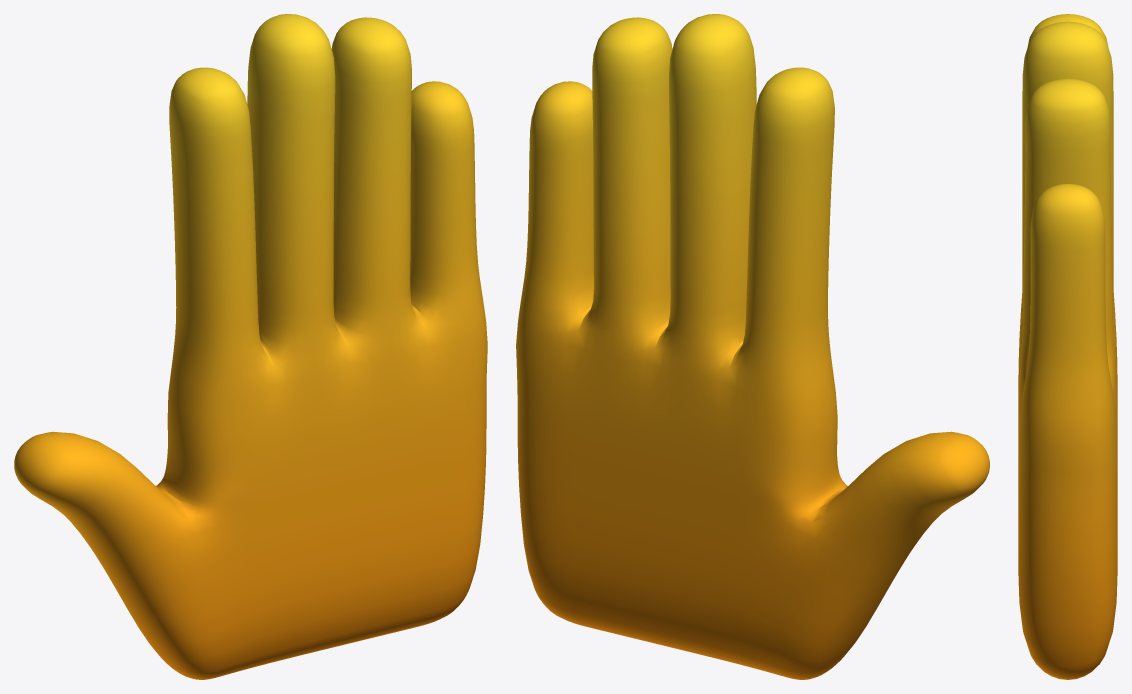
Rendered from raised_back_of_hand.fbx.
3 renders of one model, left to right at view 1: azimuth 30°, elevation 25°; view 2: azimuth 150°, elevation 25°; view 3: azimuth 270°, elevation 25°, orthographic. The views are drawn at different scales.
Visible parts, largest first — view 1: Cube.081; view 2: Cube.081; view 3: Cube.081.
Boxes of the visible parts, left/top/right/bottom form: Cube.081: left=14, top=14, right=487, bottom=679; Cube.081: left=516, top=14, right=989, bottom=679; Cube.081: left=1018, top=14, right=1117, bottom=679.
Bounding box in the file's own units: 171 × 227 × 34.42.
1 material, 1 textured.
